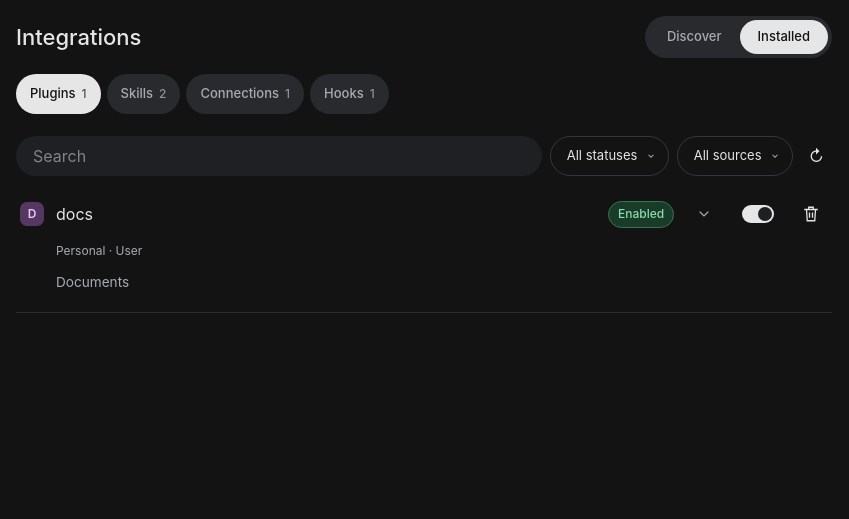
Test: Integration browsing and lifecycle › shows rejected local skills with their reason and no activation control
Expected: the button with aria-label "View docs" is shown, [56, 194, 596, 234]
Click the button "Skills 2" at (144, 94), box [107, 74, 180, 114]
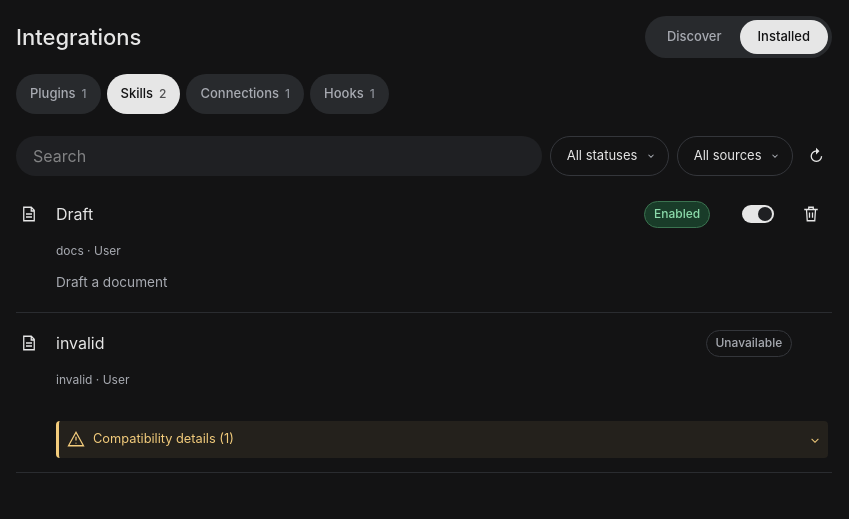
Now the element showing "Compatibility details (1)" is shown, box [56, 421, 828, 458]
Click the heading "Compatibility details (1)" at (150, 440), box [67, 430, 234, 448]
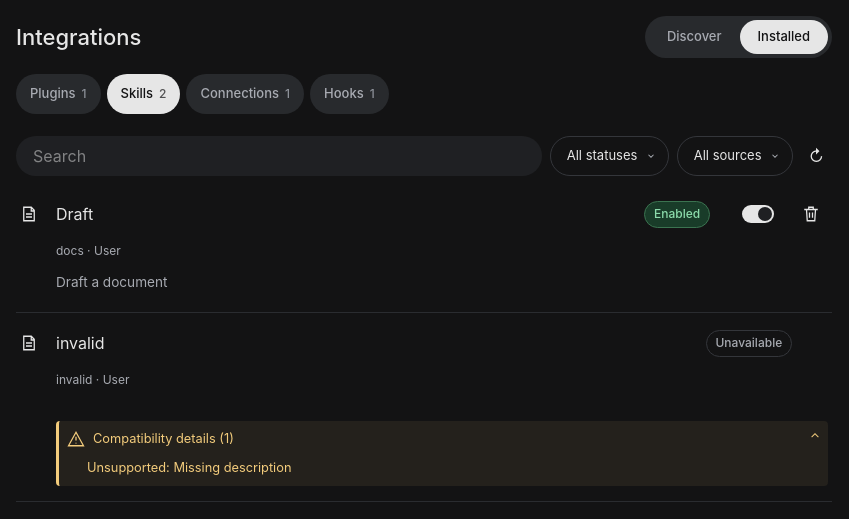
Now the list item named "View invalid" shows "Unavailable", box [716, 335, 782, 350]
Now the list item "Unsupported: Missing description" is shown, box [87, 460, 292, 475]
